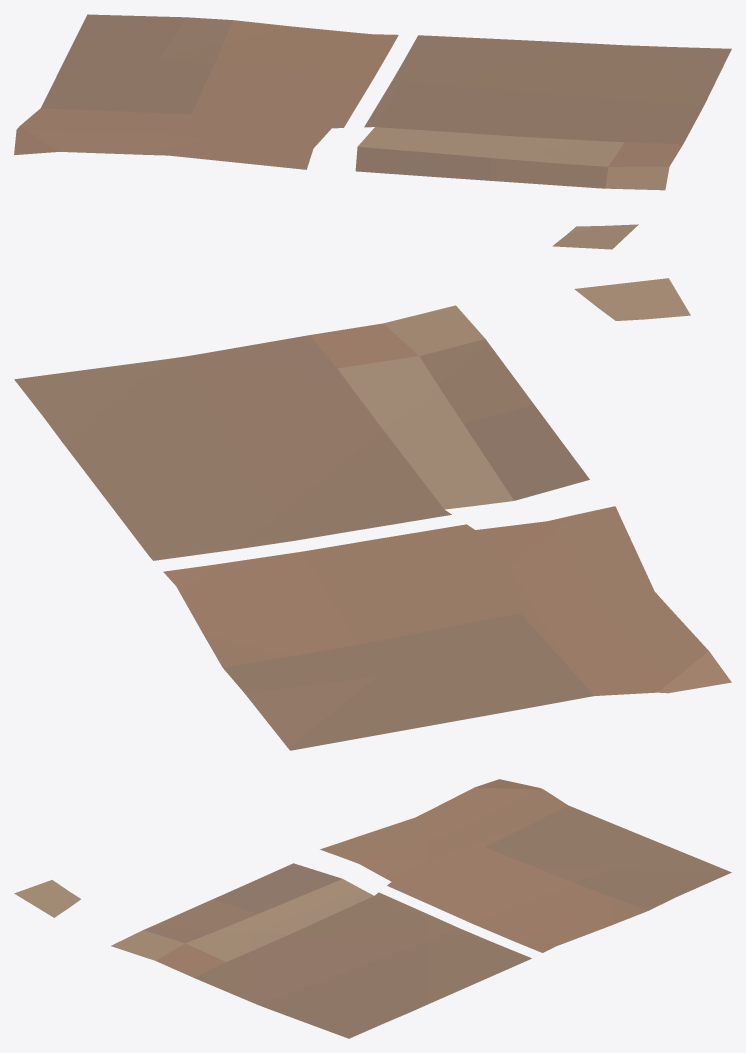
File: farm_-11_4_soil.glb
The picture shows the model from 3 angles, top to bottom: view 1: azimuth 30°, elevation 25°; view 2: azimuth 150°, elevation 25°; view 3: azimuth 270°, elevation 25°; orthographic projection. The views are drawn at different scales.
Visible parts, largest first — view 1: geometry_0; view 2: geometry_0; view 3: geometry_0.
Part boxes in pixels (<box>): geometry_0: <box>14,14,731,249</box>; geometry_0: <box>14,278,731,750</box>; geometry_0: <box>14,779,731,1038</box>.
Bounding box in the file's own units: 287 × 14.64 × 319.
